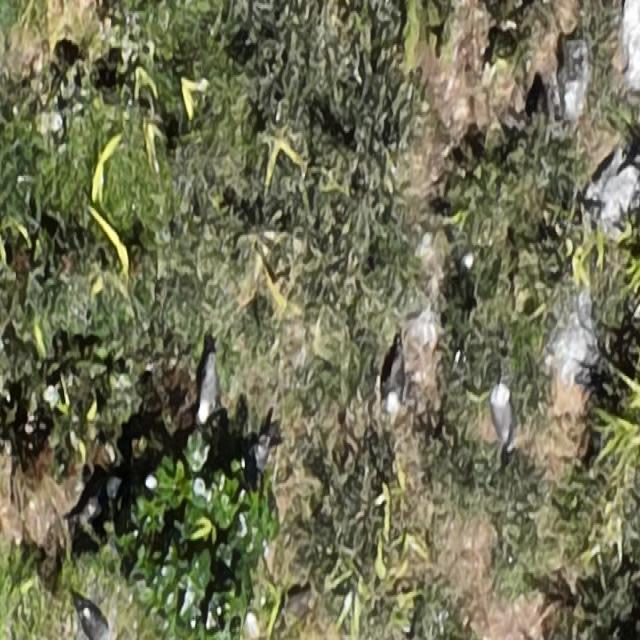umineko: (384, 345, 408, 415), (198, 361, 218, 422), (493, 391, 514, 441), (85, 612, 114, 640)
